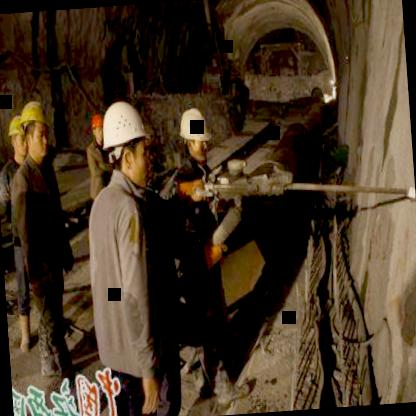helmet: (96, 94, 156, 188), (176, 104, 212, 164), (18, 98, 50, 164), (7, 114, 29, 158), (91, 110, 109, 145)
